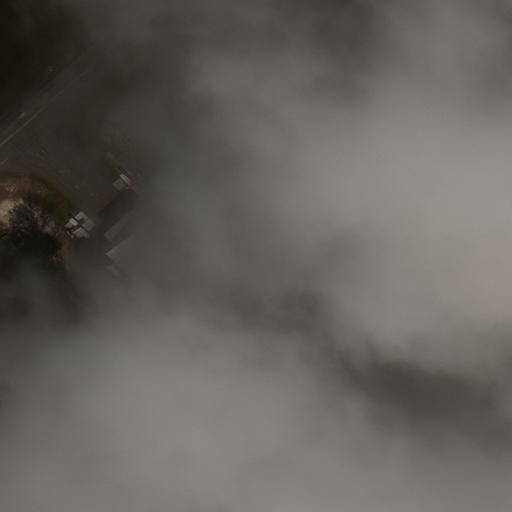Small Civil Transport: (119, 176, 143, 196), (68, 216, 89, 236)
